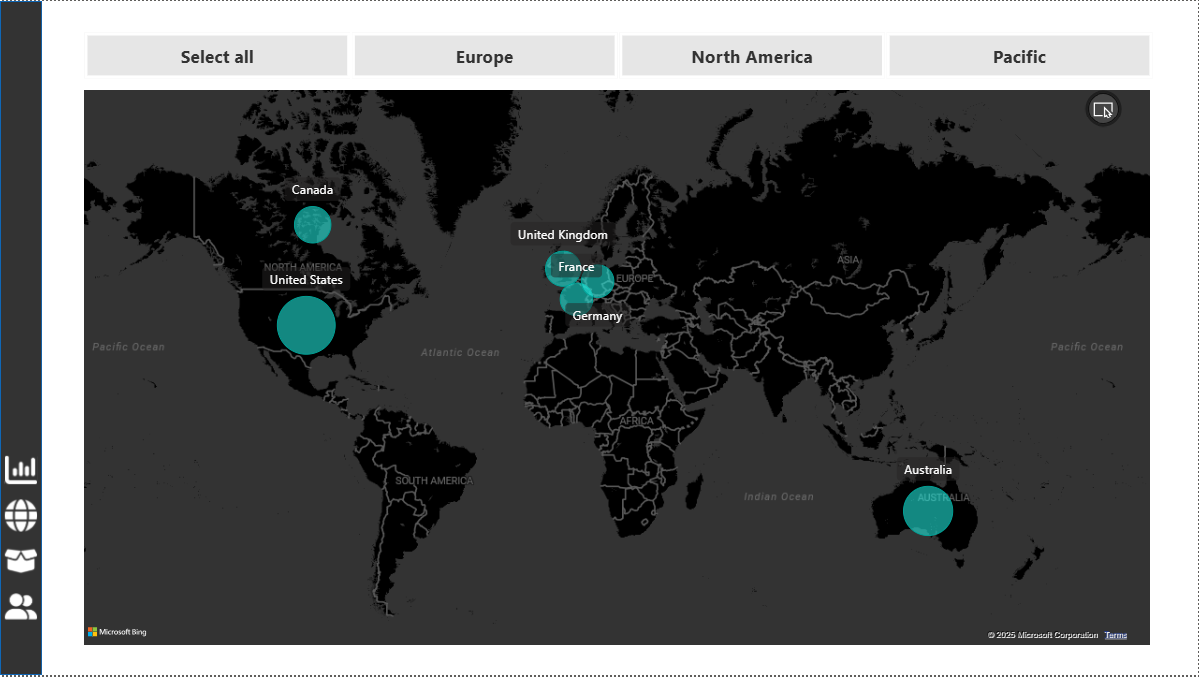

The dashboard page shown, as its layout file describes it:
{"tool":"powerbi","page":{"name":"Map","canvas":[1280,720],"ordinal":1},"visuals":[{"type":"shape","box":[0,0,45,719.9],"z":0},{"type":"actionButton","box":[1.3,527.9,62.3,42.4],"z":0,"group":"g1"},{"type":"map","fields":{"Category":["Territory Lookup.Country"],"Size":["Measure Table.Total Orders"]},"box":[84.8,90.1,1149.4,603.2],"z":1000},{"type":"actionButton","box":[1.3,576.5,62.3,42.4],"z":1000,"group":"g1"},{"type":"slicer","fields":{"Values":["Territory Lookup.Continent"]},"box":[65,27.8,1190.5,62.3],"z":2000},{"type":"actionButton","box":[1.3,625.1,62.3,42.4],"z":2000,"group":"g1"},{"type":"group","id":"g1","title":"Navigation Buttons","box":[1.3,479.3,62.3,188.2],"z":3000},{"type":"actionButton","box":[1.3,479.3,62.3,42.4],"z":3000,"group":"g1"}]}

Visuals, with their boxes in screenshot pixels (x1, y1, x2, y2):
shape: box=[37, 3, 79, 668]
actionButton: box=[39, 491, 96, 530]
map - Territory Lookup.Country x Measure Table.Total Orders: box=[116, 86, 1178, 644]
actionButton: box=[39, 536, 96, 575]
slicer - Territory Lookup.Continent: box=[98, 29, 1197, 86]
actionButton: box=[39, 581, 96, 620]
"Navigation Buttons" group: box=[39, 446, 96, 620]
actionButton: box=[39, 446, 96, 485]
